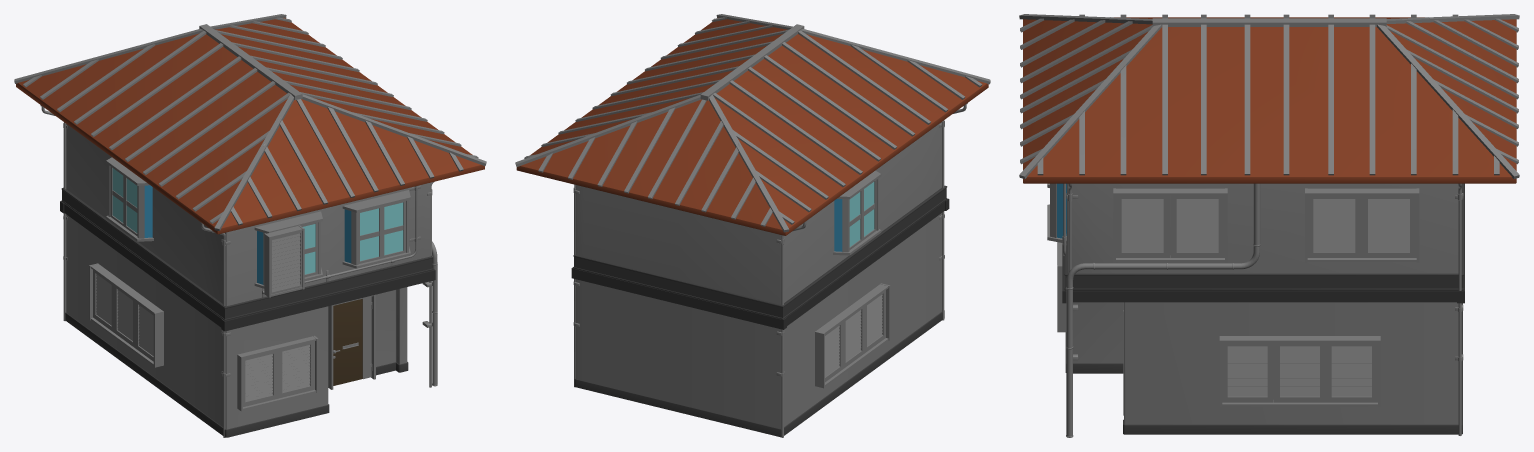
File: SM_house_residential_building_02.fbx
The picture shows the model from 3 angles, left to right: view 1: azimuth 30°, elevation 25°; view 2: azimuth 150°, elevation 25°; view 3: azimuth 270°, elevation 25°; orthographic projection. The views are drawn at different scales.
Parts seen in each view (by area): view 1: Box563; view 2: Box563; view 3: Box563.
Part boxes in pixels (x1,y1,x2,y2): Box563: [14, 14, 486, 437]; Box563: [515, 14, 990, 437]; Box563: [1019, 14, 1519, 437].
Bounding box in the file's own units: 307 × 314 × 400.
